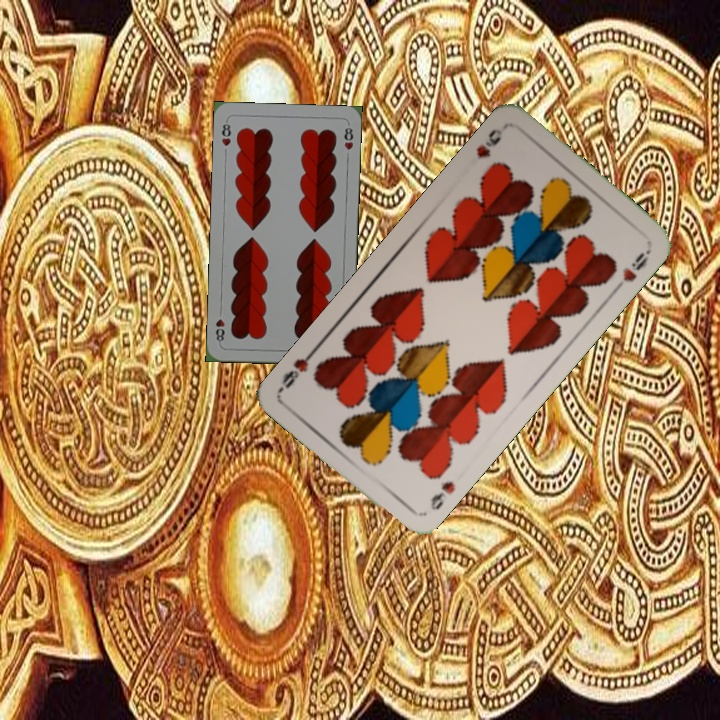H8: (218, 117, 233, 149)
H9: (472, 124, 505, 163), (426, 477, 458, 513)
